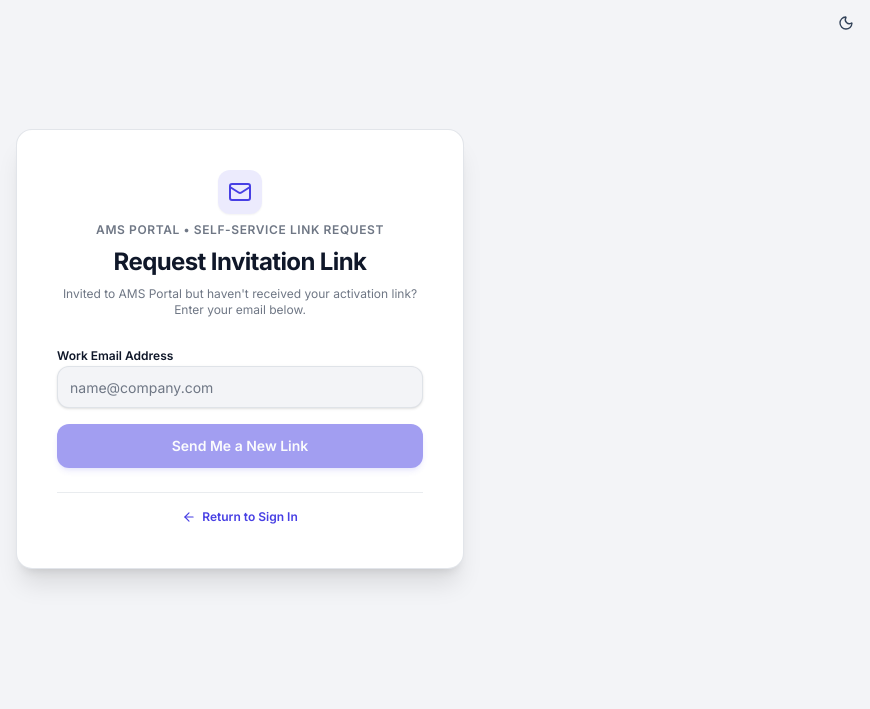
Test: Frontend Real Email Invitation Delivery & Flows › 2. /request-invitation Self-Service Link Request › always displays the generic success panel and disables submit button
Type "someone@company.com" into the field labelled "Work Email Address" at (240, 387), box [57,366,423,408]
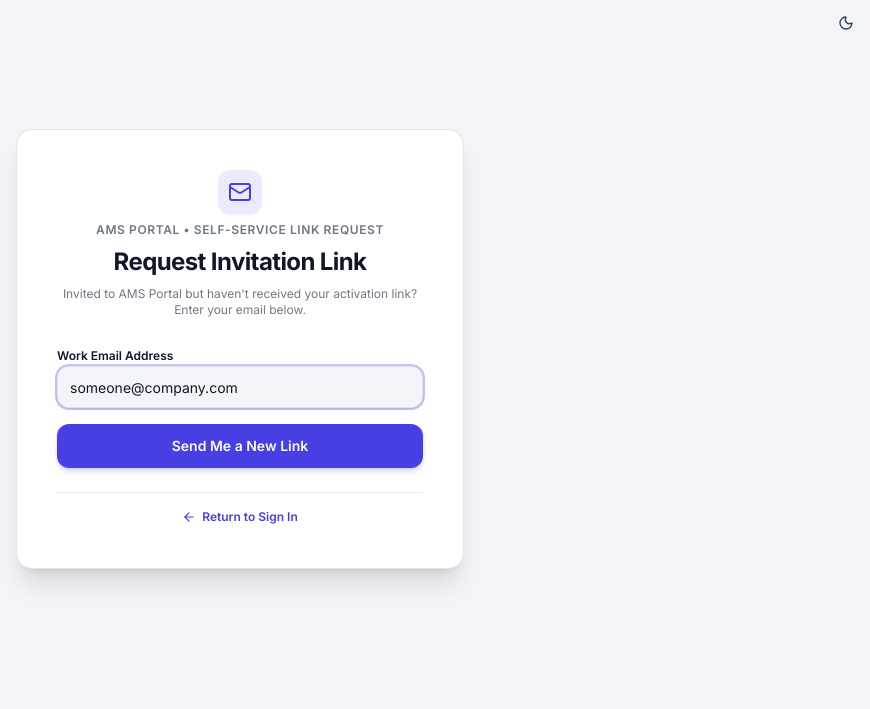
Click the button "Send Me a New Link" at (240, 446), box [57,424,423,468]
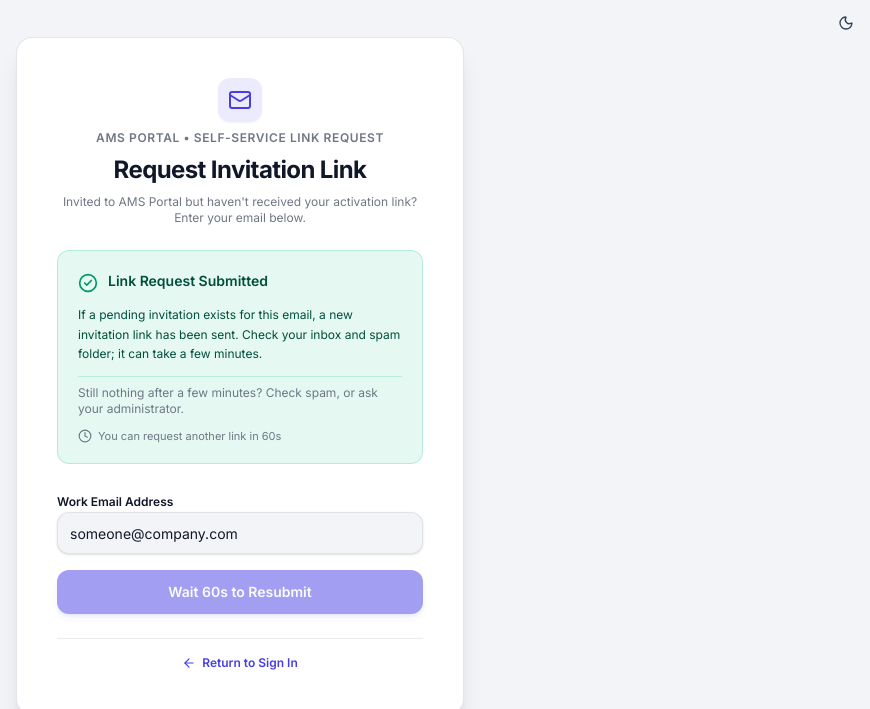
expect the text "Link Request Submitted" is shown: met, box [108,271,268,291]
expect the text "If a pending invitation exists for this email" is shown: met, box [78,307,400,361]
expect the text "Still nothing after a few minutes? Check spam, or ask your administrator." is shown: met, box [78,376,402,416]
